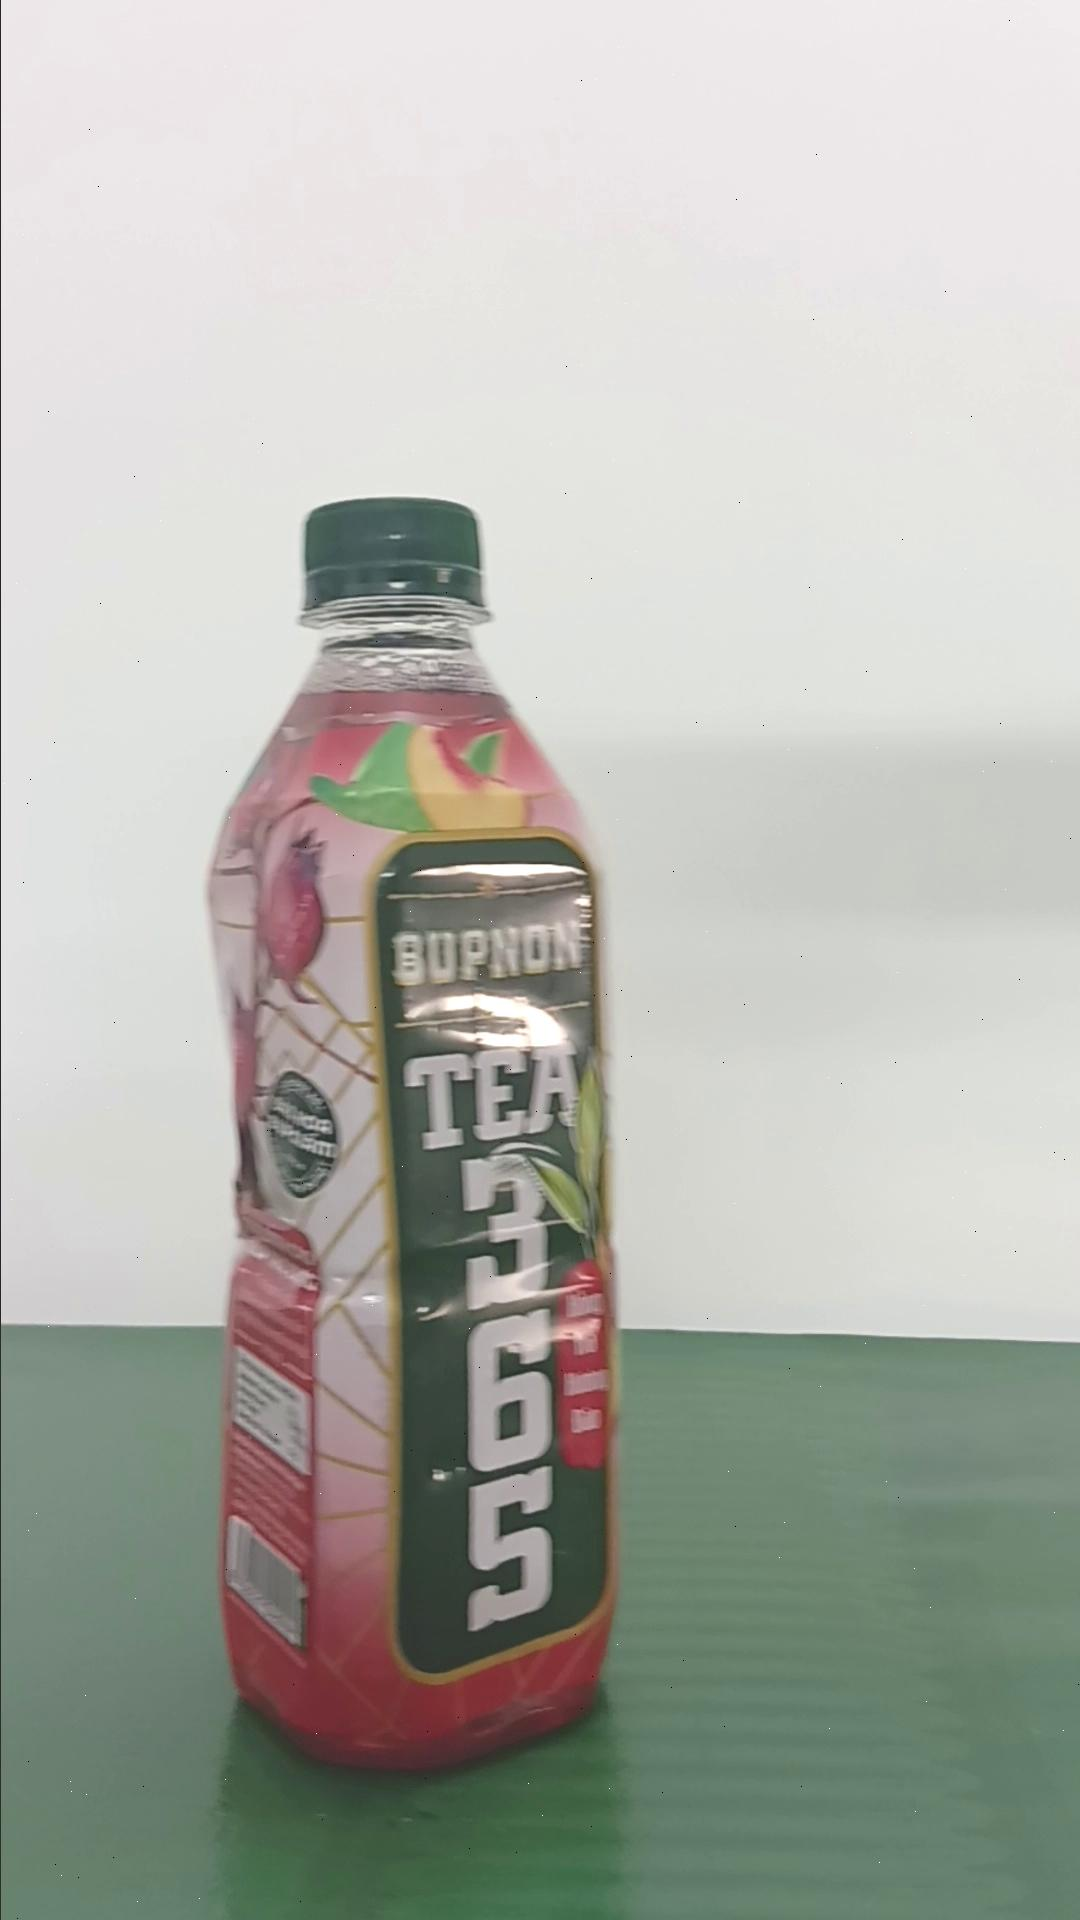loi meo sp: (204, 492, 622, 1772)
